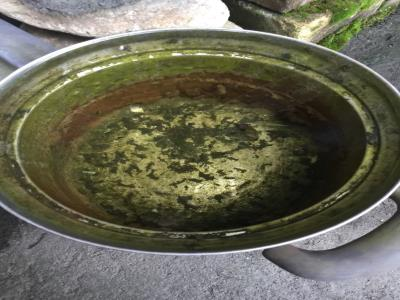bowl: (1, 23, 400, 259)
